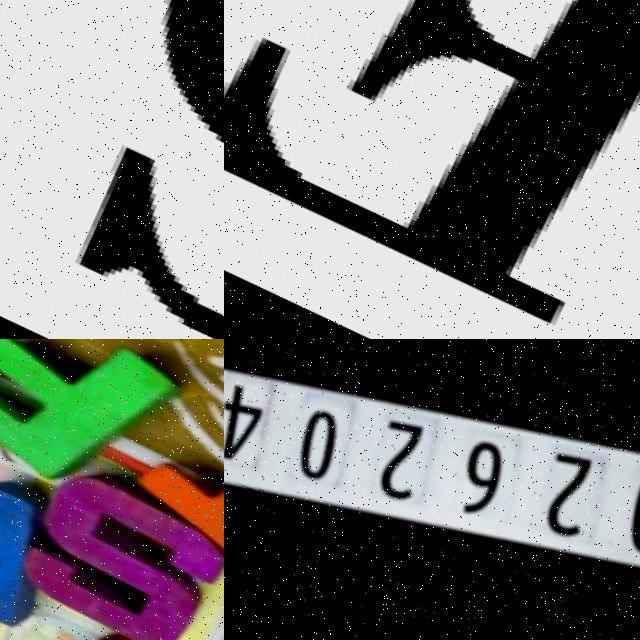0: (266, 396, 370, 506), (588, 458, 640, 585)
2: (504, 439, 627, 569), (340, 406, 457, 530)
4: (224, 369, 294, 488)
6: (425, 426, 538, 546)
F: (224, 0, 640, 339), (0, 339, 188, 520)
I: (103, 339, 224, 640)
P: (0, 439, 76, 640)
S: (2, 0, 224, 339), (0, 455, 224, 640)
